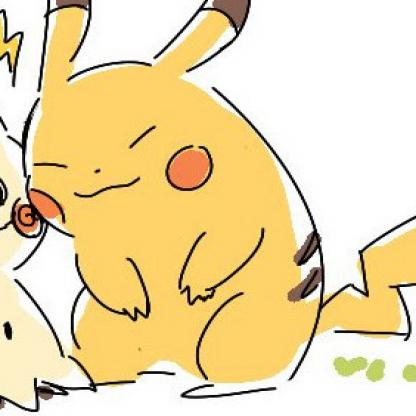Pikachu: (26, 1, 416, 401)
